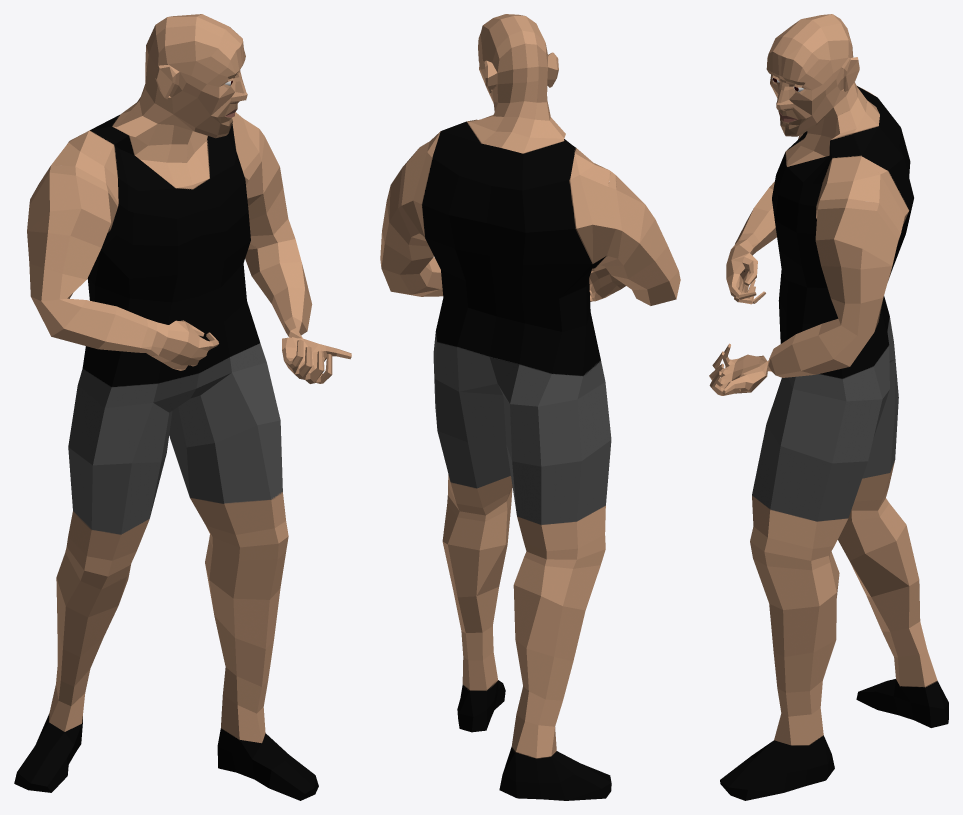
The model's file is PlayerIdle(125).obj.
3 renders of one model, left to right at view 1: azimuth 30°, elevation 25°; view 2: azimuth 150°, elevation 25°; view 3: azimuth 270°, elevation 25°, orthographic. The views are drawn at different scales.
Visible parts, largest first — view 1: Plane002; view 2: Plane002; view 3: Plane002.
Boxes of the visible parts, x1,y1,x2,y2 form: Plane002: (14, 14, 351, 800); Plane002: (380, 14, 680, 800); Plane002: (709, 14, 948, 800).
Size of the model in its own units: 698 by 1798 by 529.
